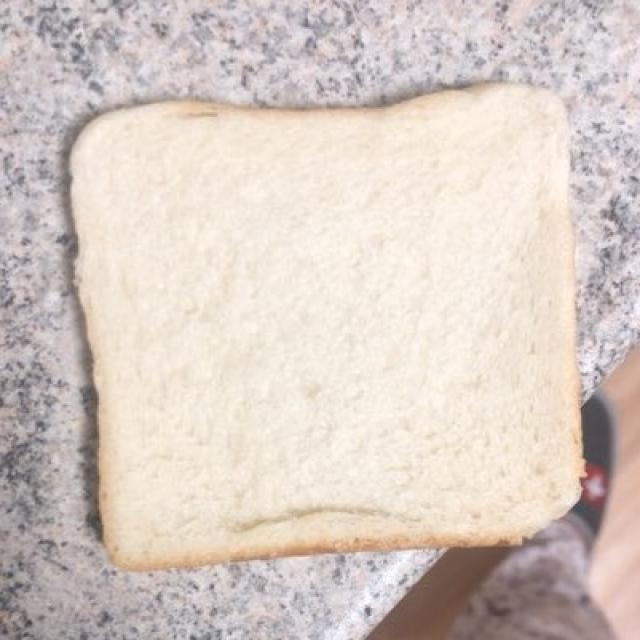bread: (82, 94, 575, 564)
